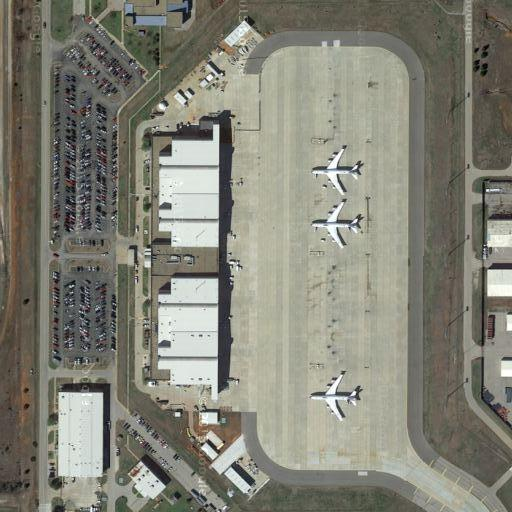E-8: (308, 143, 365, 199), (311, 197, 365, 252), (309, 370, 364, 424)
